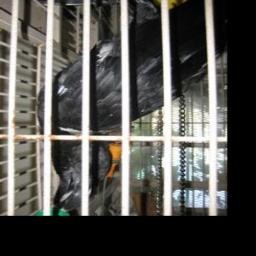Crow: (37, 0, 226, 212)
